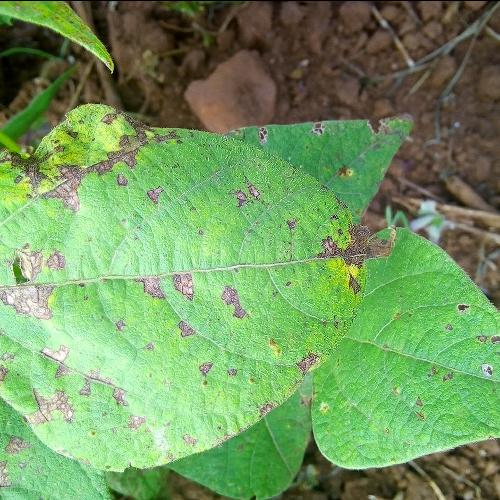hawar: (107, 240, 328, 395), (3, 225, 92, 478), (13, 79, 182, 206), (336, 199, 400, 305)
